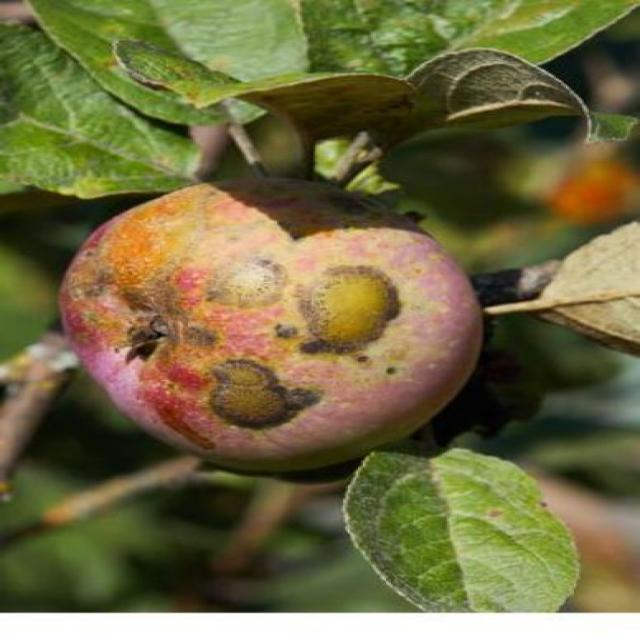Rotten Apple: (54, 140, 550, 496)
